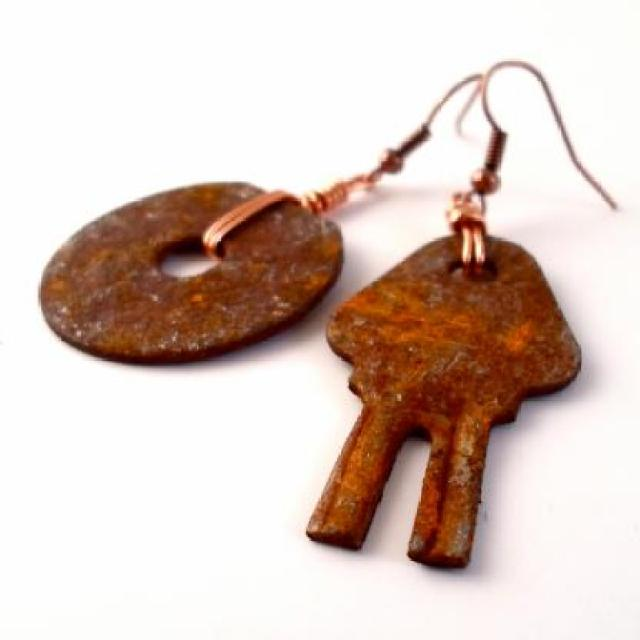corrosion: (34, 181, 588, 576)
